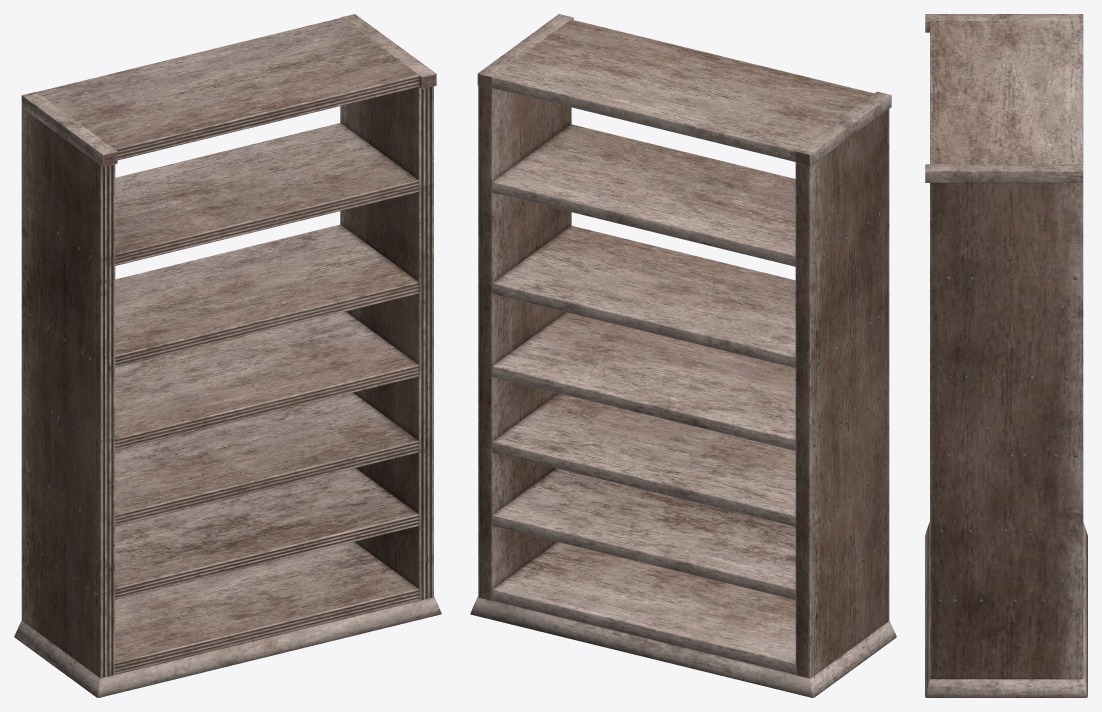
File: wooden_bookshelf_worn.glb
3 renders of one model, left to right at view 1: azimuth 30°, elevation 25°; view 2: azimuth 150°, elevation 25°; view 3: azimuth 270°, elevation 25°, orthographic. The views are drawn at different scales.
Visible parts, largest first — view 1: wooden_bookshelf_worn; view 2: wooden_bookshelf_worn; view 3: wooden_bookshelf_worn.
Boxes of the visible parts, x1=… form: wooden_bookshelf_worn: x1=14, y1=14, x2=441, y2=697; wooden_bookshelf_worn: x1=470, y1=14, x2=896, y2=697; wooden_bookshelf_worn: x1=925, y1=14, x2=1087, y2=697.
Size of the model in its own units: 1.37 by 2.06 by 0.5813.
1 material, 1 textured.
